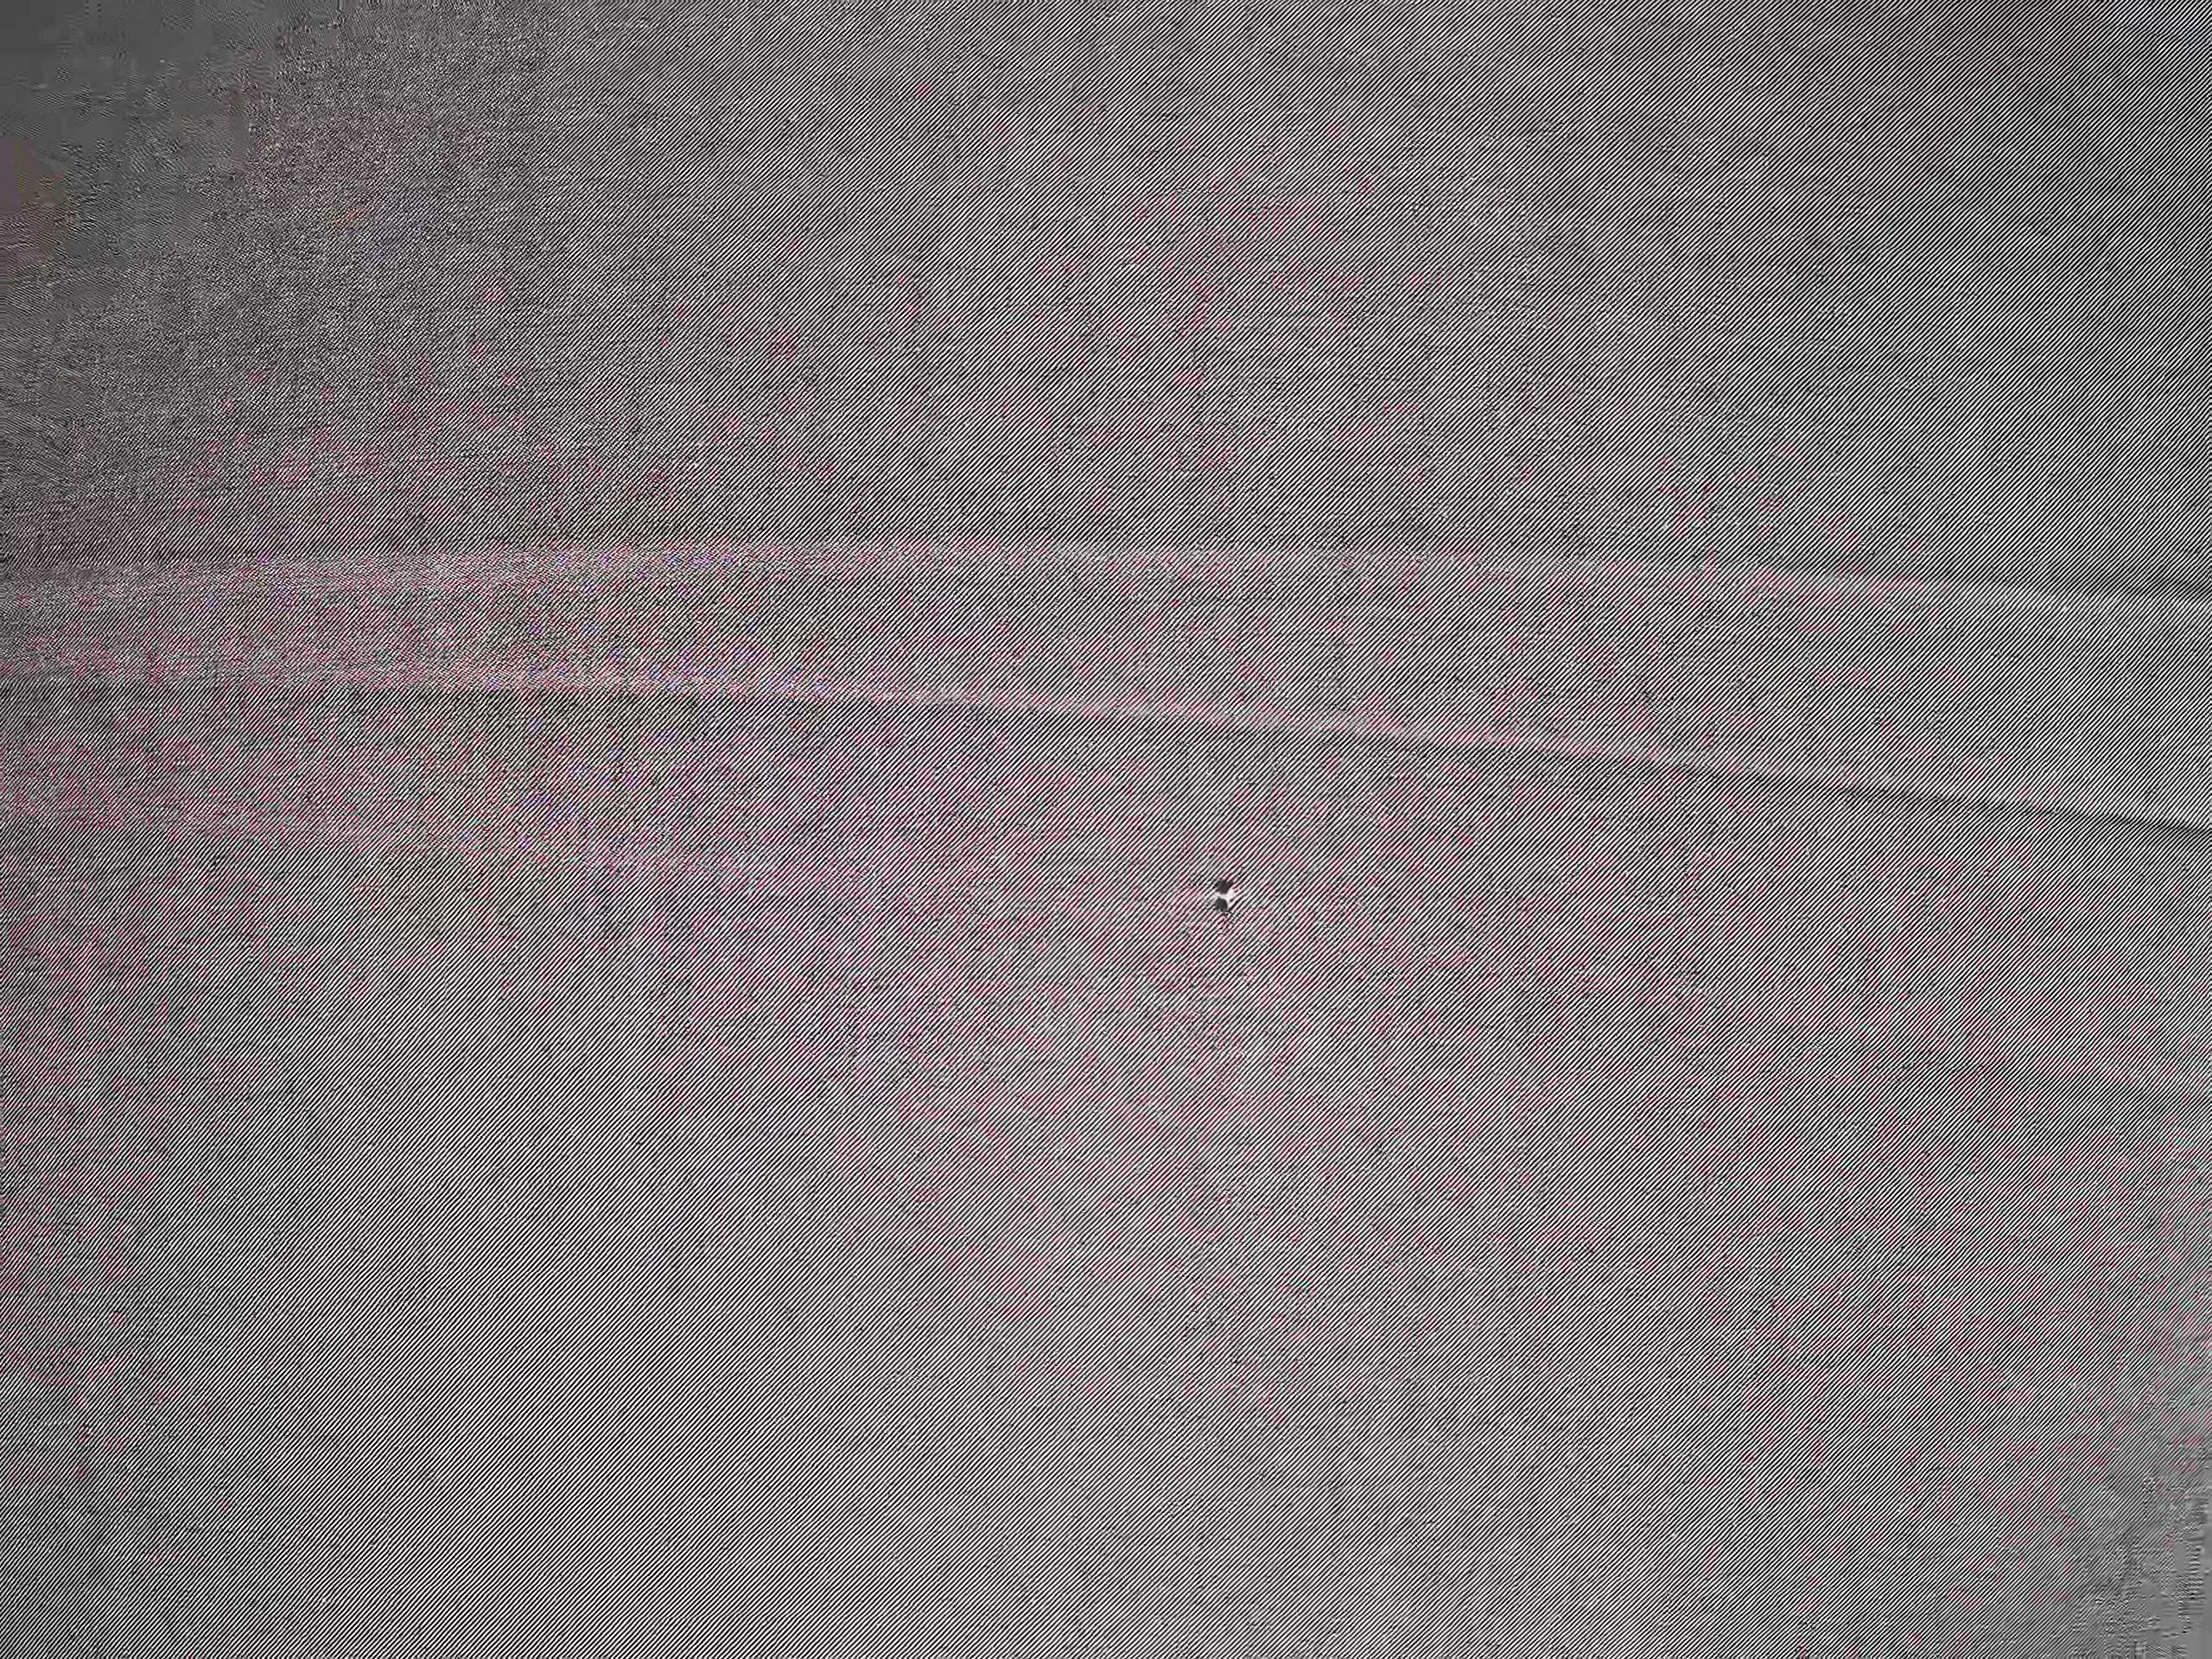rubbing-hole: (1198, 864, 1252, 932)
